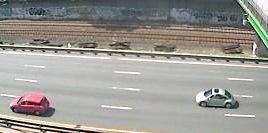car: (192, 85, 238, 111), (7, 92, 54, 115)
